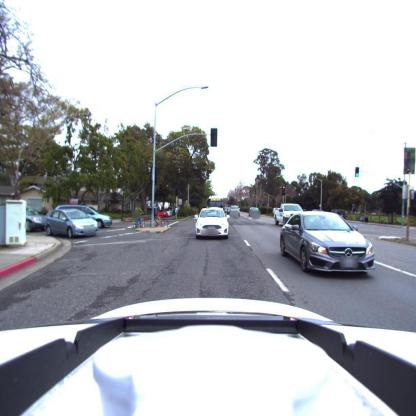bus: (208, 196, 226, 209)
car: (0, 293, 408, 415), (279, 211, 378, 276), (45, 207, 101, 239), (66, 204, 114, 228), (196, 209, 229, 238), (275, 204, 304, 226), (26, 210, 48, 233), (230, 204, 240, 218), (332, 210, 347, 219)
traffic light: (210, 127, 217, 146), (355, 167, 360, 178)
